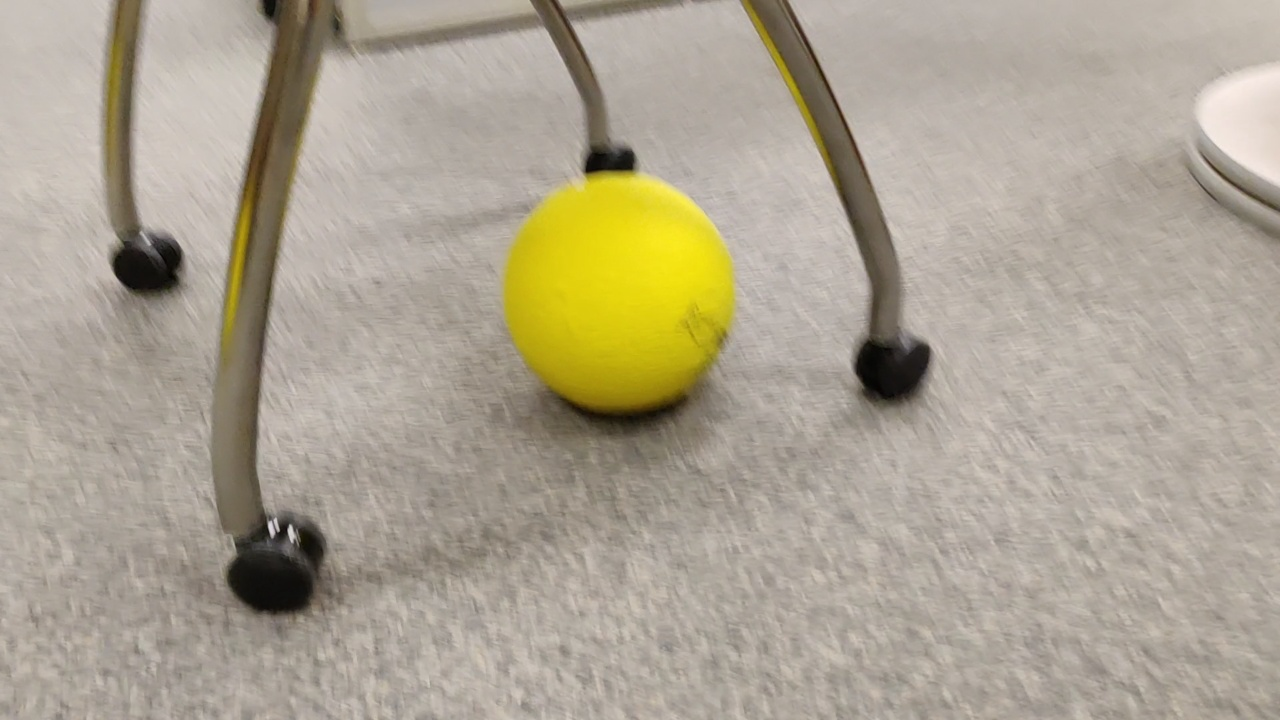Ball: (510, 170, 739, 425)
